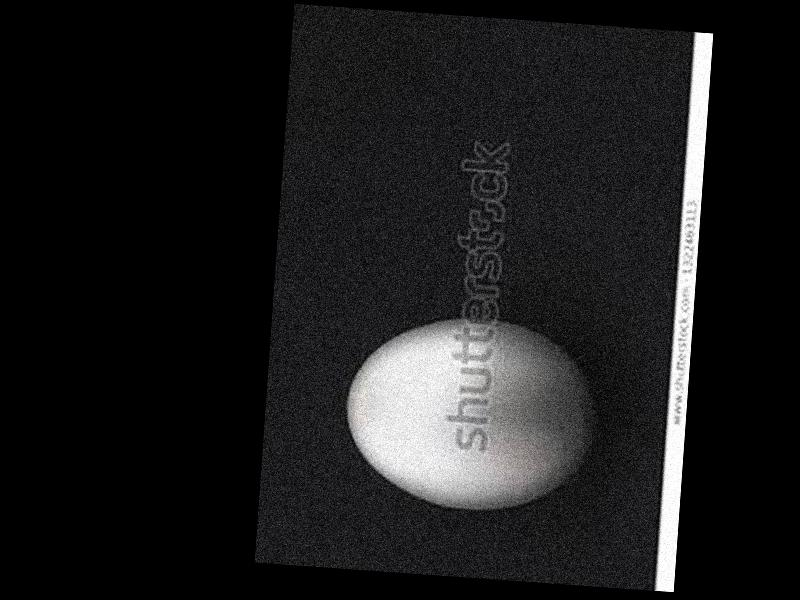Eggs: (337, 314, 599, 519)
